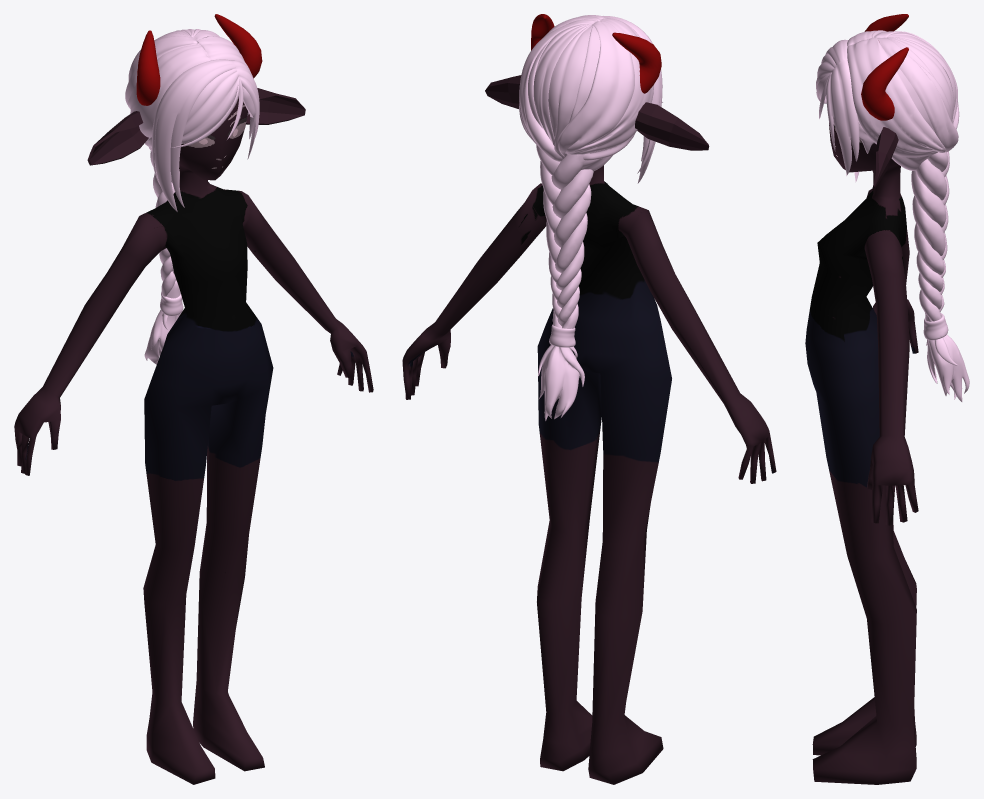
File: Bunny3.fbx
3 views of the same model, side by side, from view 1: azimuth 30°, elevation 25°; view 2: azimuth 150°, elevation 25°; view 3: azimuth 270°, elevation 25° (orthographic). The views are drawn at different scales.
Parts seen in each view (by area): view 1: Cylinder, Model_mesh.001__0, Object_2, Object_4.001, Object_4; view 2: Cylinder, Model_mesh.001__0, Object_4.001, Object_2, Object_4; view 3: Cylinder, Model_mesh.001__0, Object_2, Object_4.
Part boxes in pixels (x1,y1,x2,y2): Cylinder: (14,96,373,784); Model_mesh.001__0: (125,29,259,364); Object_2: (136,14,262,105); Object_4.001: (87,111,148,165); Object_4: (246,88,305,124); Cylinder: (402,165,776,784); Model_mesh.001__0: (519,15,662,420); Object_4.001: (635,102,709,150); Object_2: (531,14,661,93); Object_4: (485,75,521,108); Cylinder: (805,123,918,784); Model_mesh.001__0: (816,30,969,401); Object_2: (861,14,908,120); Object_4: (872,127,898,190).
Size of the model in its own units: 233 by 461 by 93.63.
Materials: 5 (5 with a texture image).
